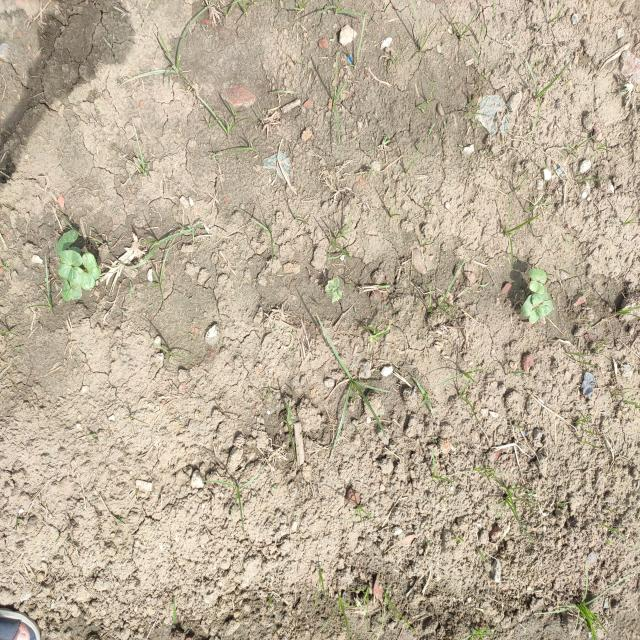seedling: (55, 230, 78, 254), (82, 252, 101, 280), (73, 266, 95, 290), (58, 264, 80, 284), (60, 250, 82, 267), (522, 294, 536, 316), (532, 290, 548, 306), (530, 268, 547, 283), (529, 307, 544, 324), (61, 278, 71, 302), (539, 300, 553, 317), (326, 278, 339, 296), (70, 281, 82, 299), (530, 281, 545, 294), (333, 288, 344, 302)
